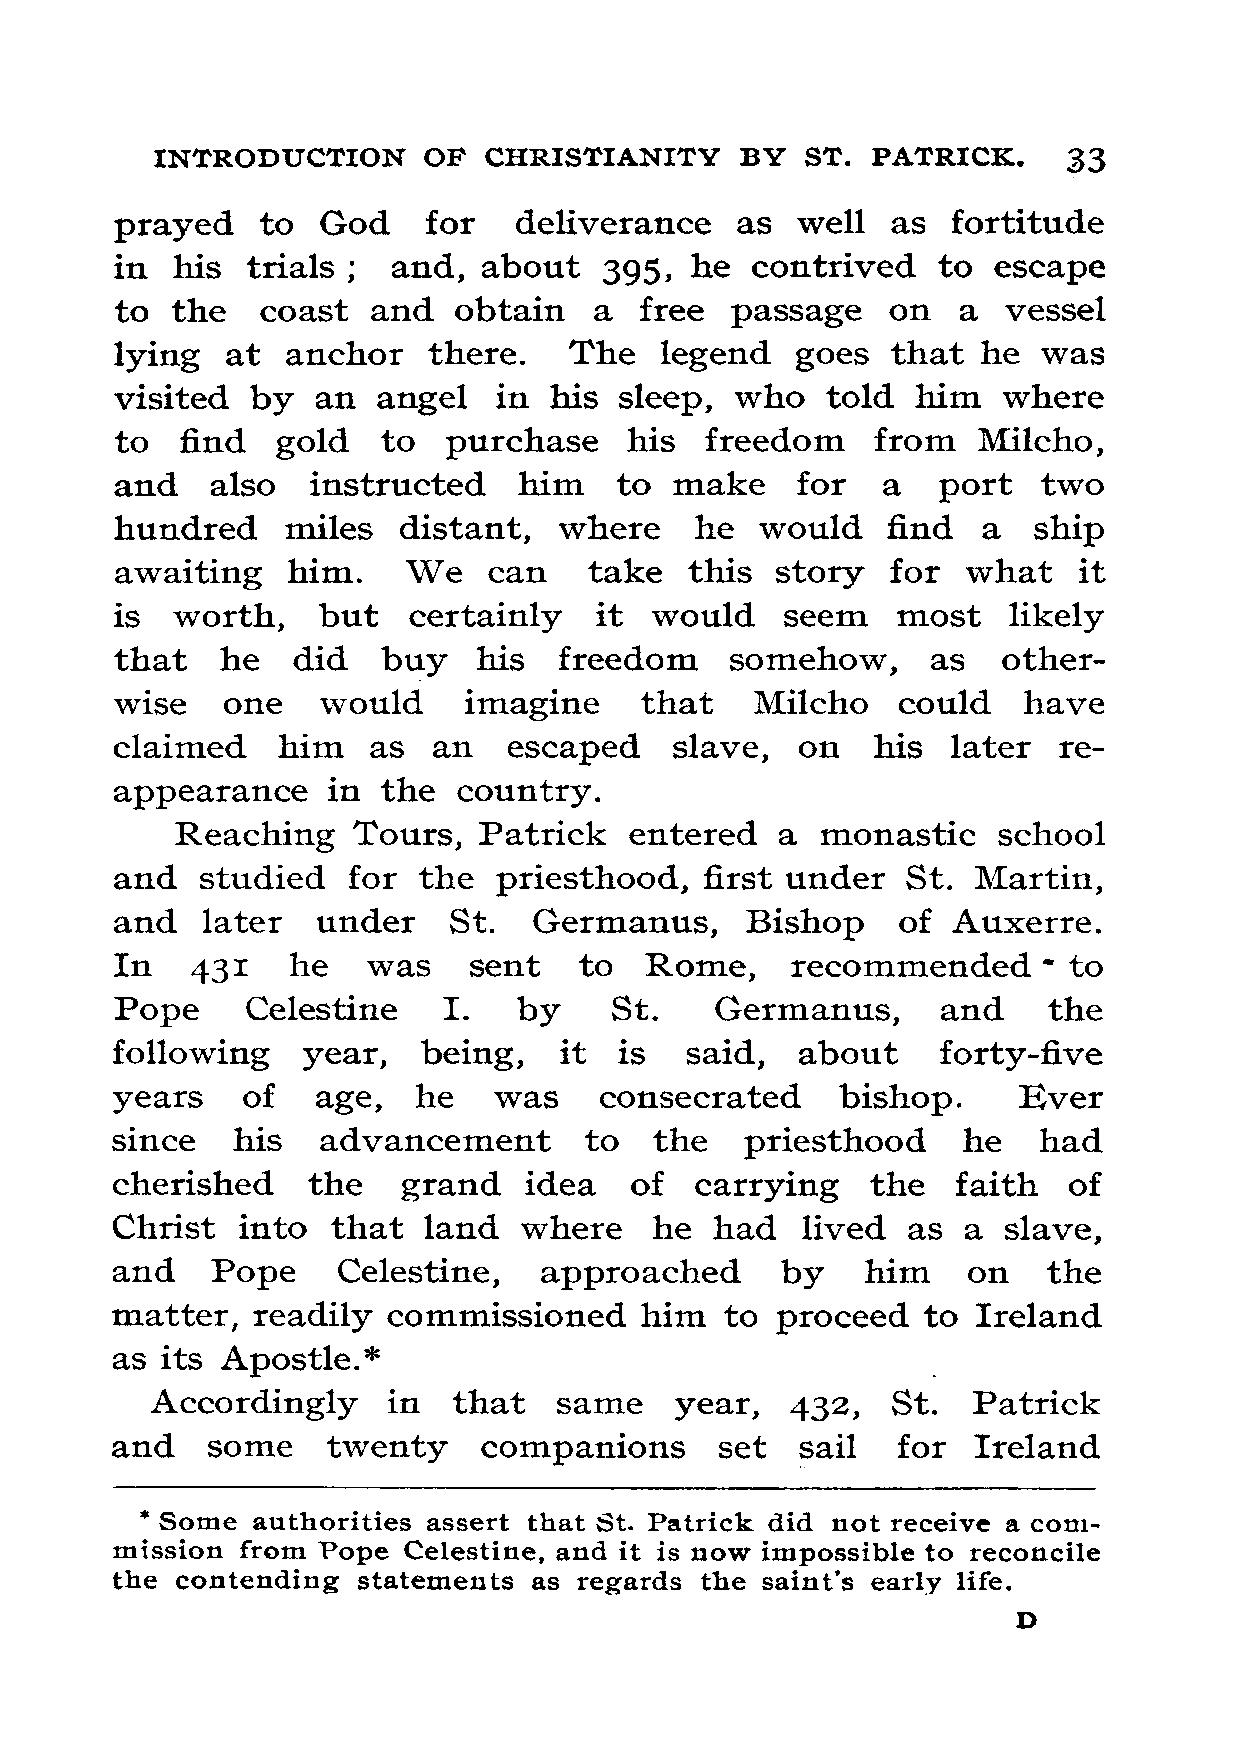content: (107, 207, 1108, 1601)
content_chapter: (146, 144, 1027, 169)
content_pagenumber: (1062, 145, 1110, 178)
